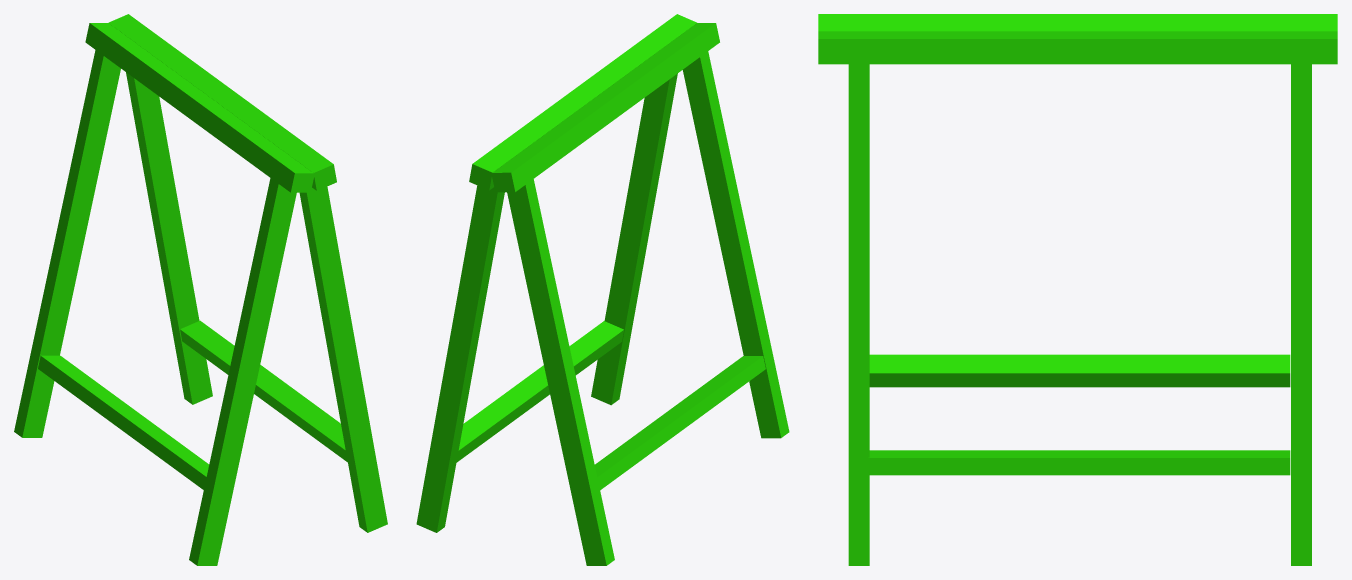
File: Trestle_01_Lod0.fbx
3 views of the same model, side by side, from view 1: azimuth 30°, elevation 25°; view 2: azimuth 150°, elevation 25°; view 3: azimuth 270°, elevation 25° (orthographic). The views are drawn at different scales.
Visible parts, largest first — view 1: Trestle_01_Lod0; view 2: Trestle_01_Lod0; view 3: Trestle_01_Lod0.
Part boxes in pixels (x1,y1,x2,y2): Trestle_01_Lod0: (14,14,387,565); Trestle_01_Lod0: (416,14,789,565); Trestle_01_Lod0: (818,14,1337,565).
Size of the model in its own units: 38.42 by 74.93 by 71.65.
